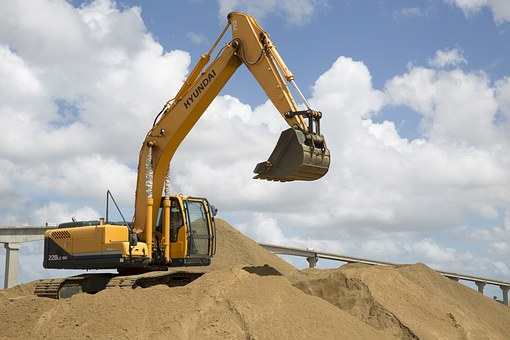excavator: (32, 10, 350, 307)
